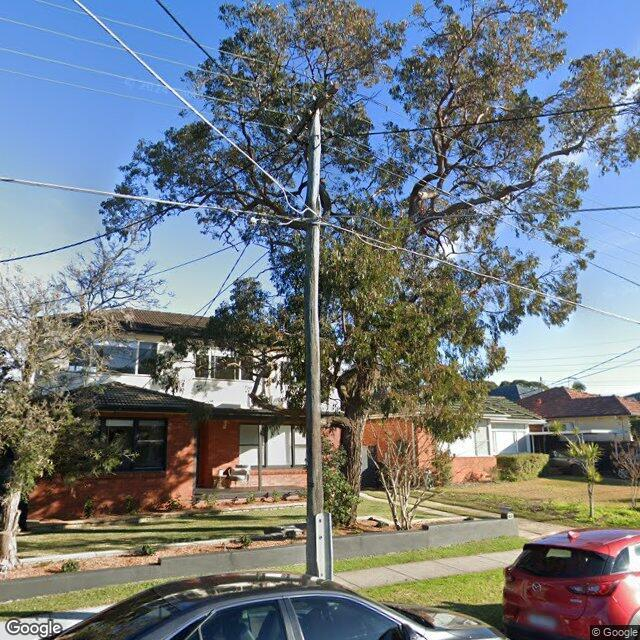crossarm: (288, 78, 341, 145)
timber-pole: (306, 92, 333, 575)
